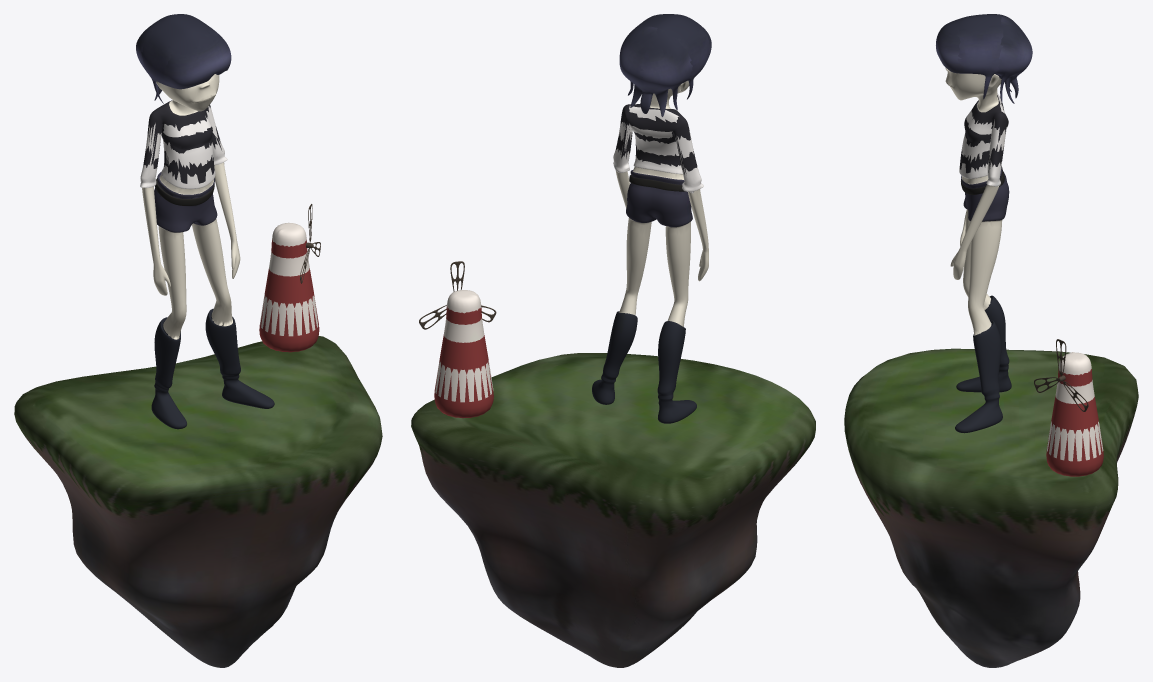
The model's file is noodle-diorama.glb.
3 renders of one model, left to right at view 1: azimuth 30°, elevation 25°; view 2: azimuth 150°, elevation 25°; view 3: azimuth 270°, elevation 25°, orthographic. The views are drawn at different scales.
Visible parts, largest first — view 1: Noodle_Island_Diorama; view 2: Noodle_Island_Diorama; view 3: Noodle_Island_Diorama.
Boxes of the visible parts, box(x1,y1,x2,y2) form: Noodle_Island_Diorama: box(14, 14, 382, 667); Noodle_Island_Diorama: box(411, 14, 815, 667); Noodle_Island_Diorama: box(844, 14, 1138, 667).
Size of the model in its own units: 4.08 by 8 by 3.39.
Materials: 3 (3 with a texture image).
